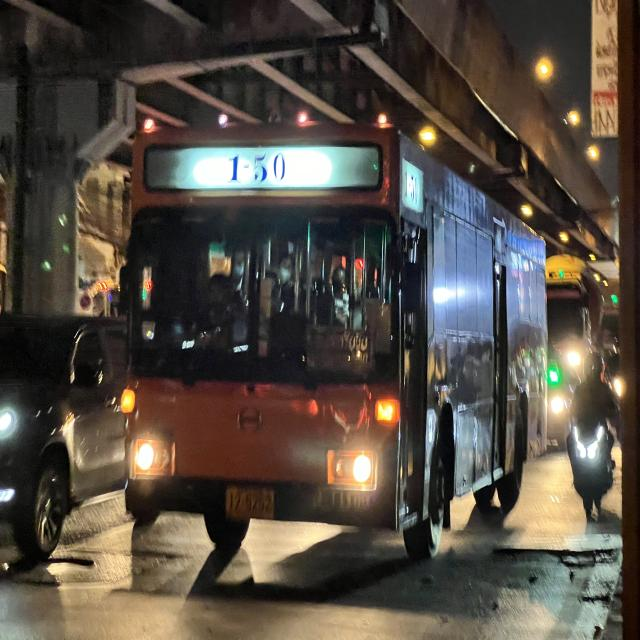BMTA-bus: (119, 116, 547, 593)
Bus-Line-Number: (223, 147, 286, 187)
Destination-Sign-Normal: (306, 324, 374, 376)
